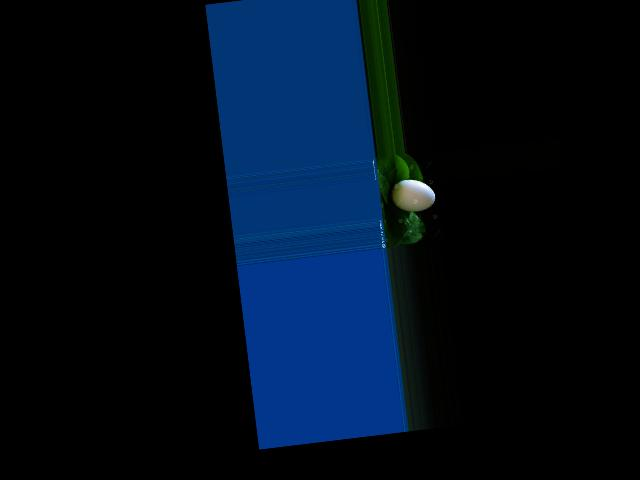egg: (389, 176, 436, 214)
